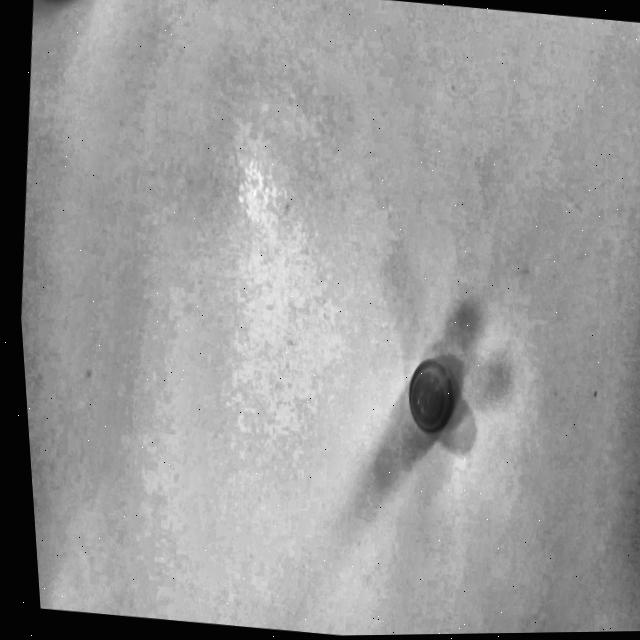white-pawn: (378, 316, 484, 444)
